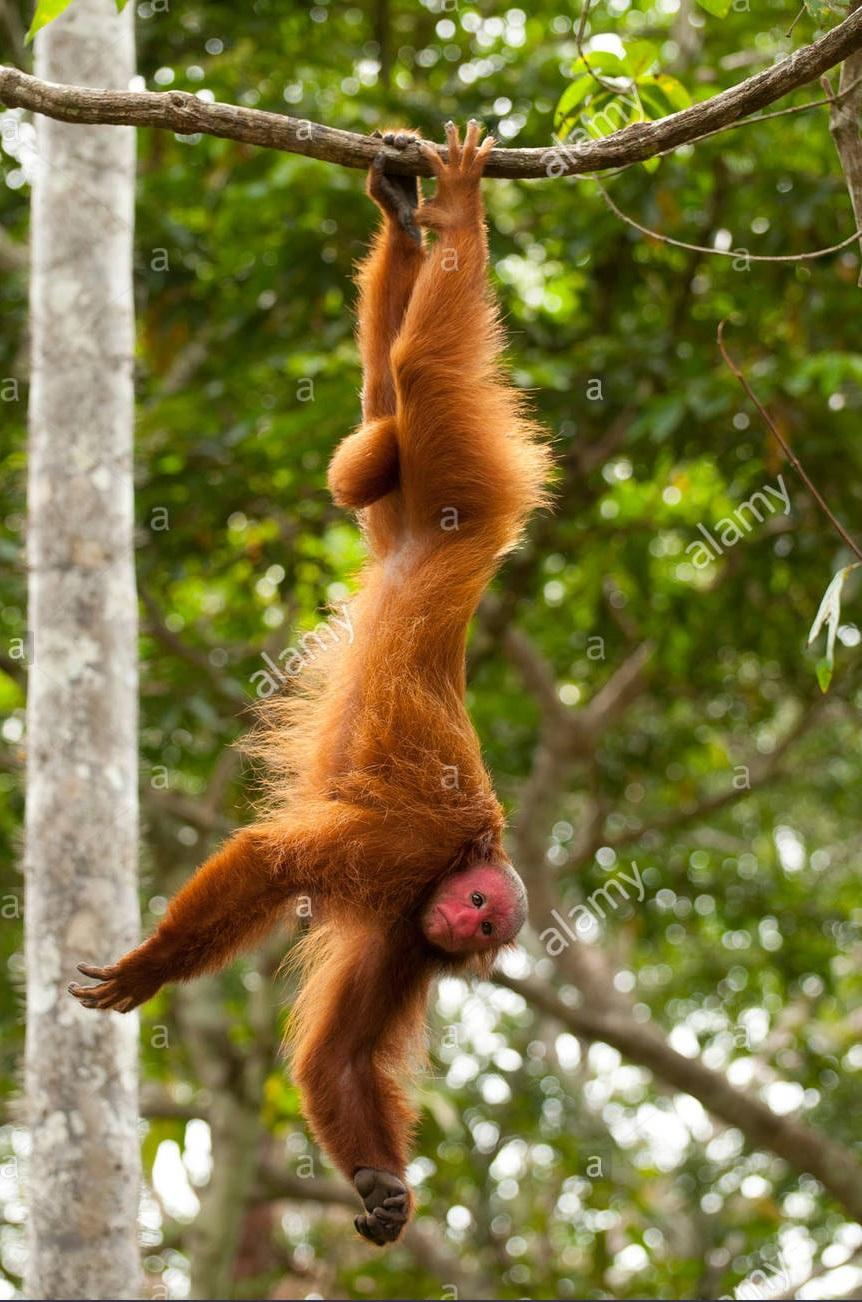monkey: (71, 138, 552, 1248)
